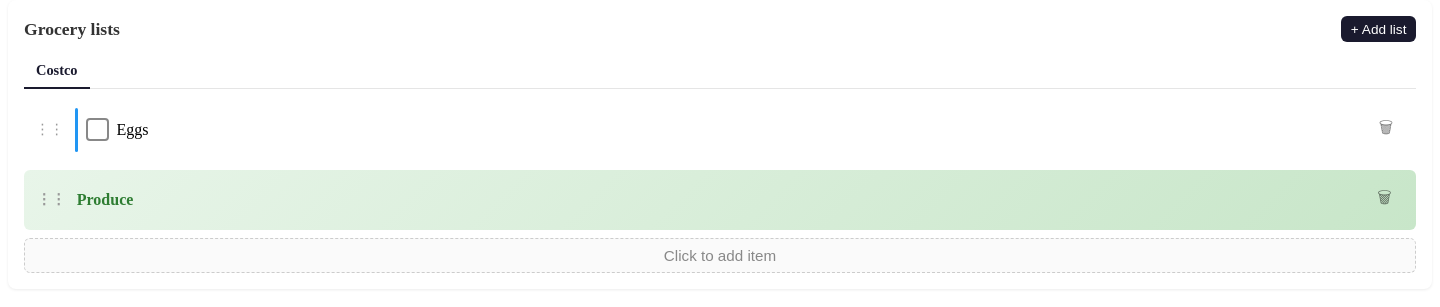
Test: GroceryLists item delete flow › does not delete on the first trash tap
Expected: the button "Eggs" is shown, [116, 121, 148, 138]
What coordinates should you click on to do the following:
click the button named "Delete"
I would click on:
 (1386, 130)
Its box is [1364, 108, 1408, 152].
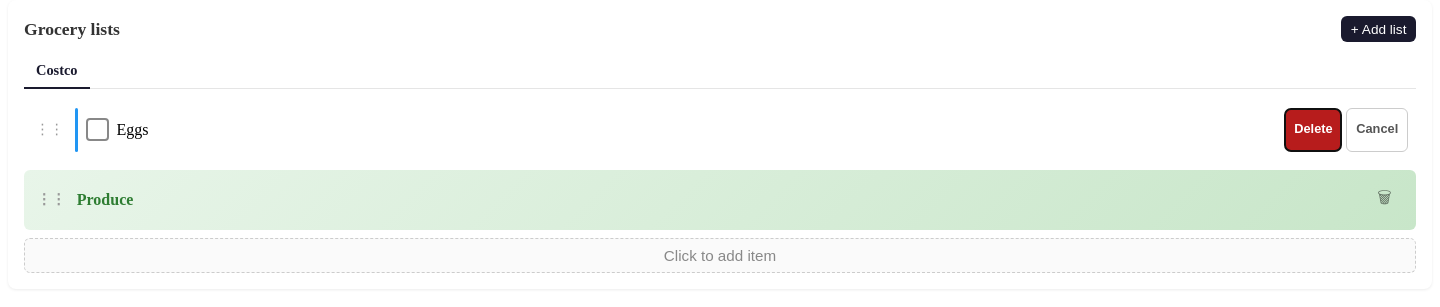
Expected: the button "Eggs" is shown, [116, 121, 148, 138]
Now the button with aria-label "Confirm delete" is shown, box [1284, 108, 1342, 152]
